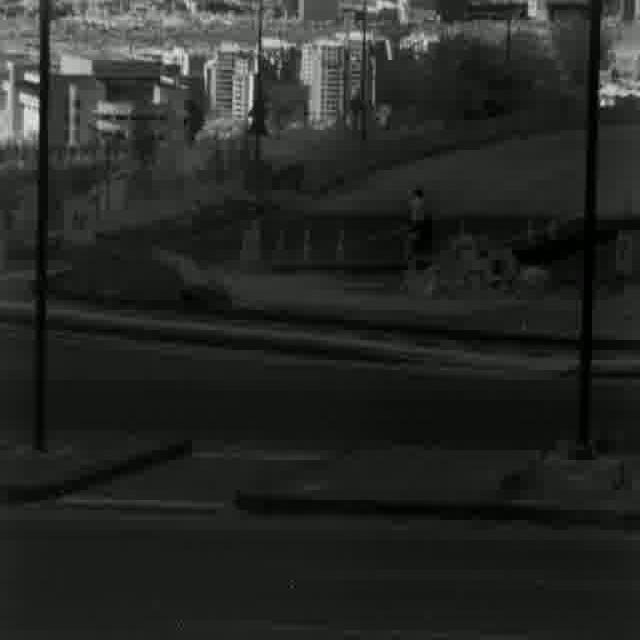Motorcycle: (403, 180, 432, 256)
